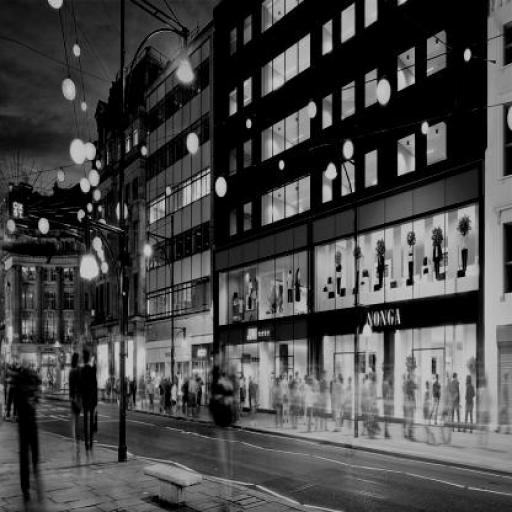street light: (116, 1, 194, 463), (328, 123, 362, 438), (147, 218, 179, 413)
